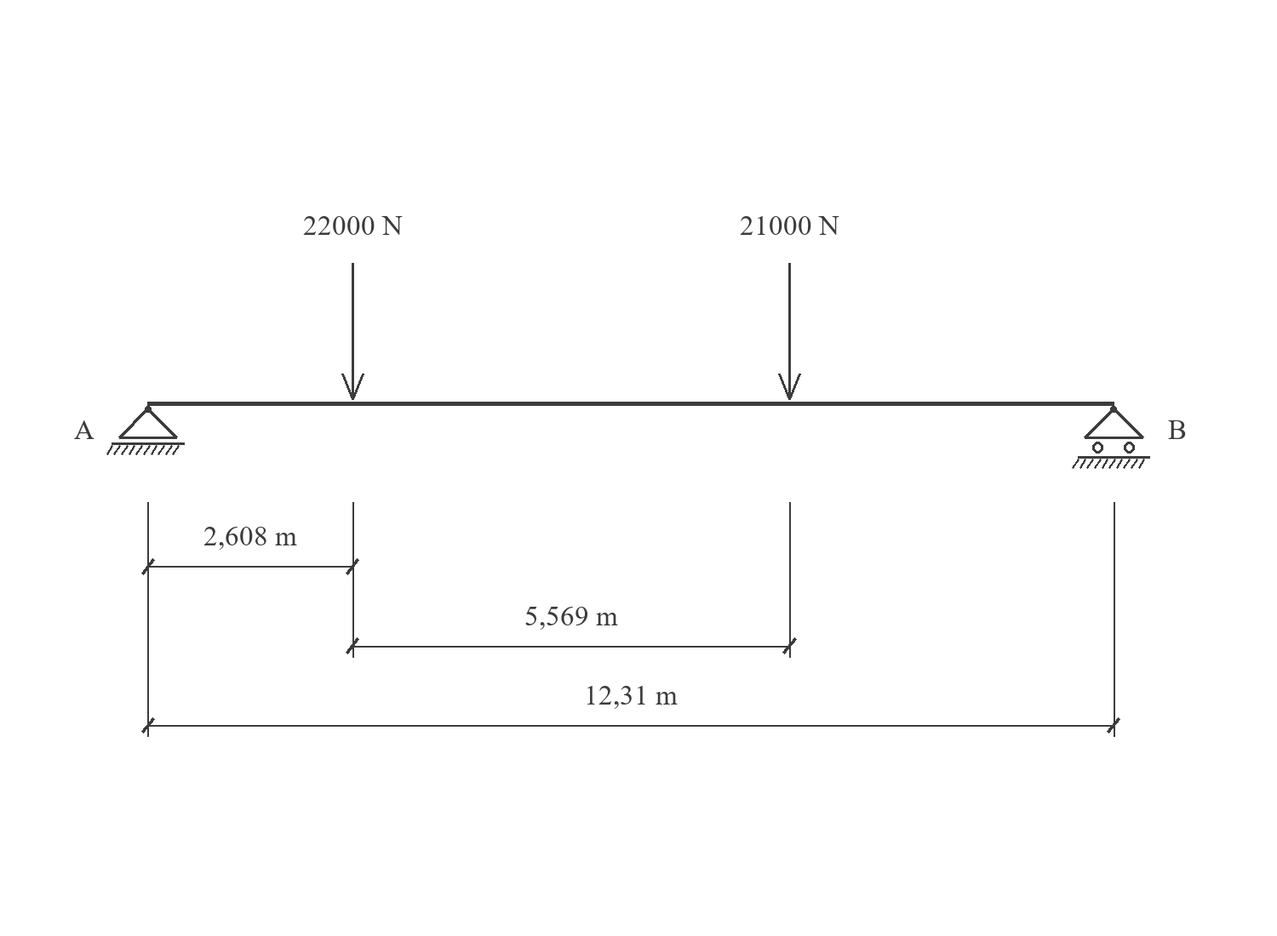pin_support: (106, 406, 185, 455)
point_load: (341, 263, 364, 400), (778, 263, 801, 400)
roller_support: (1072, 406, 1150, 469)
